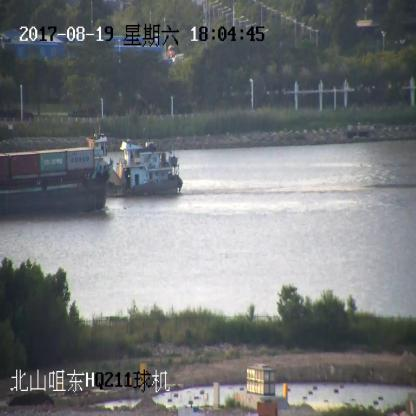Container Ship: (0, 134, 111, 213)
